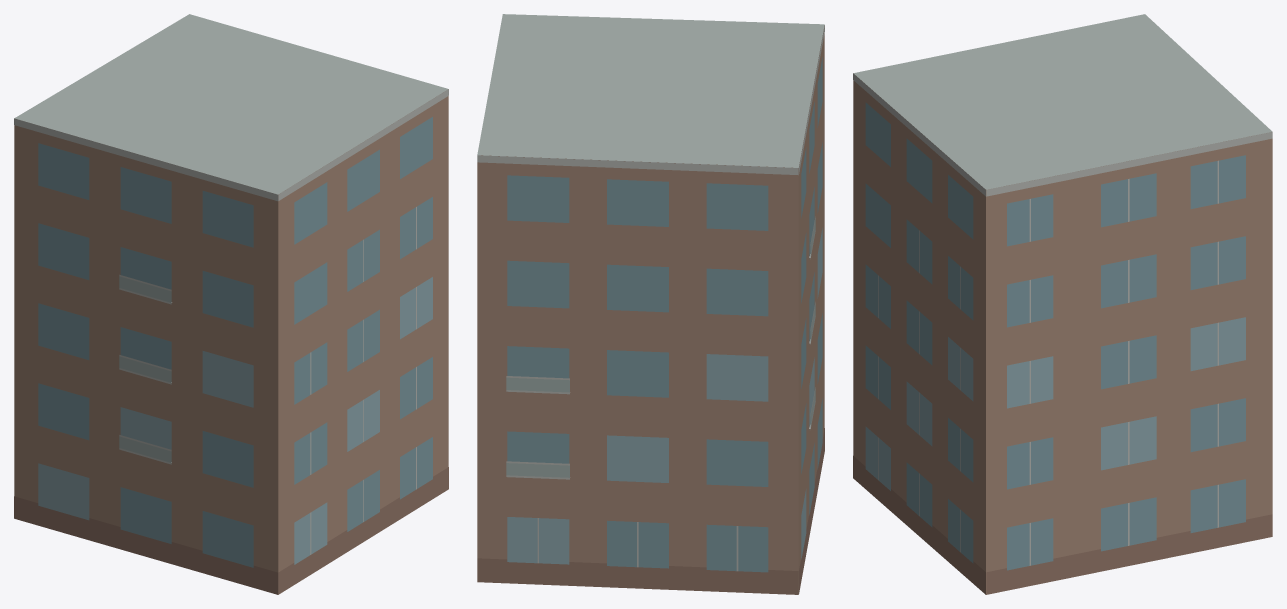
The model's file is survey-upis-32968349.glb.
The picture shows the model from 3 angles, left to right: view 1: azimuth 30°, elevation 25°; view 2: azimuth 150°, elevation 25°; view 3: azimuth 270°, elevation 25°; orthographic projection. The views are drawn at different scales.
Visible parts, largest first — view 1: survey-upis-32968349.tmp; view 2: survey-upis-32968349.tmp; view 3: survey-upis-32968349.tmp.
Part boxes in pixels (<box>): survey-upis-32968349.tmp: <box>14,14,448,594</box>; survey-upis-32968349.tmp: <box>477,14,824,594</box>; survey-upis-32968349.tmp: <box>853,14,1272,594</box>.
Bounding box in the file's own units: 13.51 × 14.5 × 13.62.
